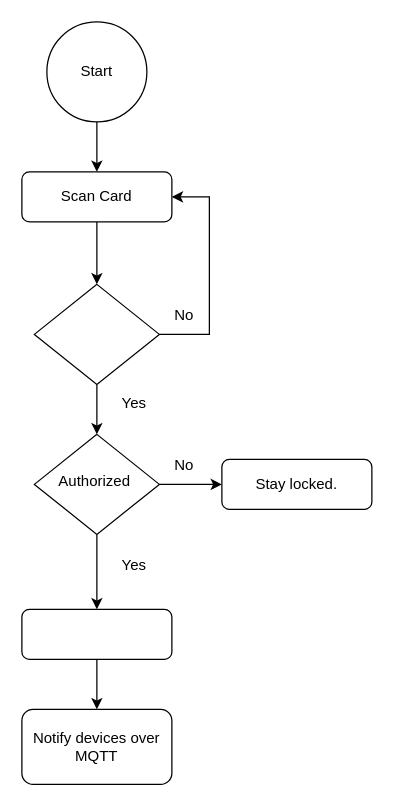
Image size: 394x806. Some labels were removed from this diagram. Each missing label, with the centre of its shape:
Card found?: pixel 96 333
Unlock: pixel 96 633
